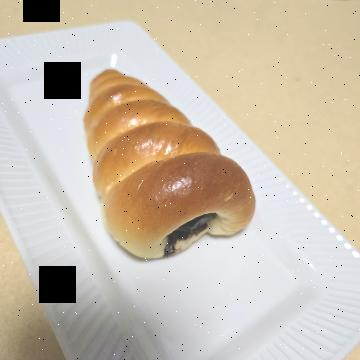cream horn: (55, 98, 282, 292)
